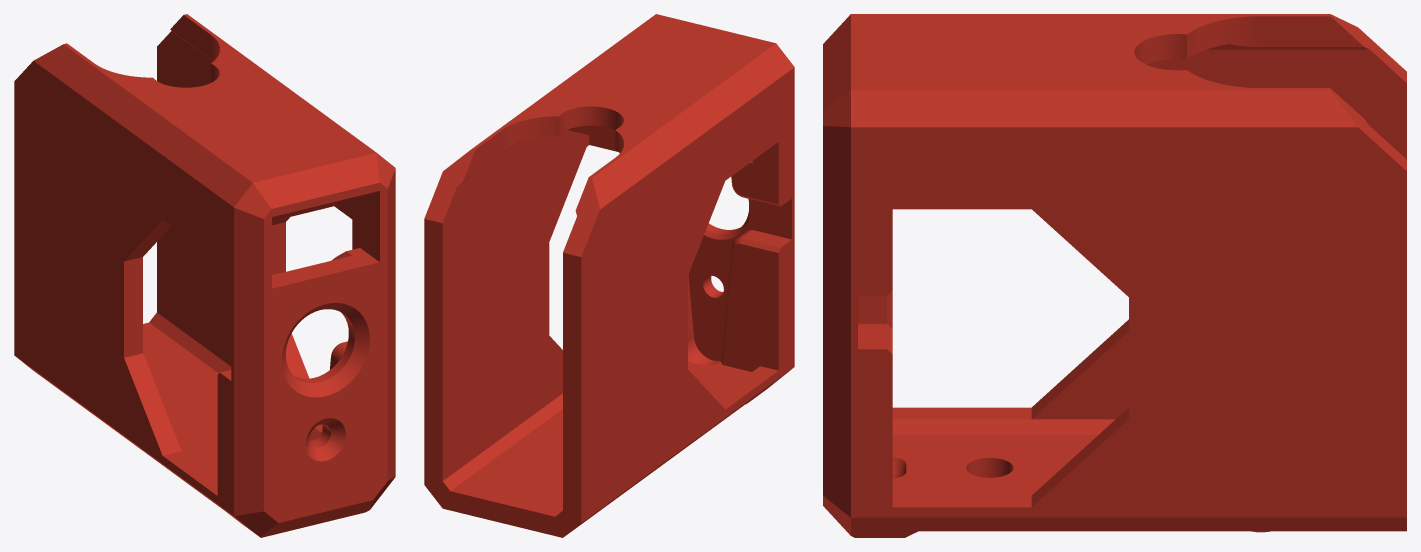
Rendered from Left Leg.obj.
3 renders of one model, left to right at view 1: azimuth 30°, elevation 25°; view 2: azimuth 150°, elevation 25°; view 3: azimuth 270°, elevation 25°, orthographic. The views are drawn at different scales.
Visible parts, largest first — view 1: Body1; view 2: Body1; view 3: Body1.
Boxes of the visible parts, x1=… form: Body1: x1=14, y1=14, x2=395, y2=537; Body1: x1=424, y1=14, x2=794, y2=537; Body1: x1=823, y1=14, x2=1406, y2=537.
Size of the model in its own units: 17 by 37.5 by 42.
